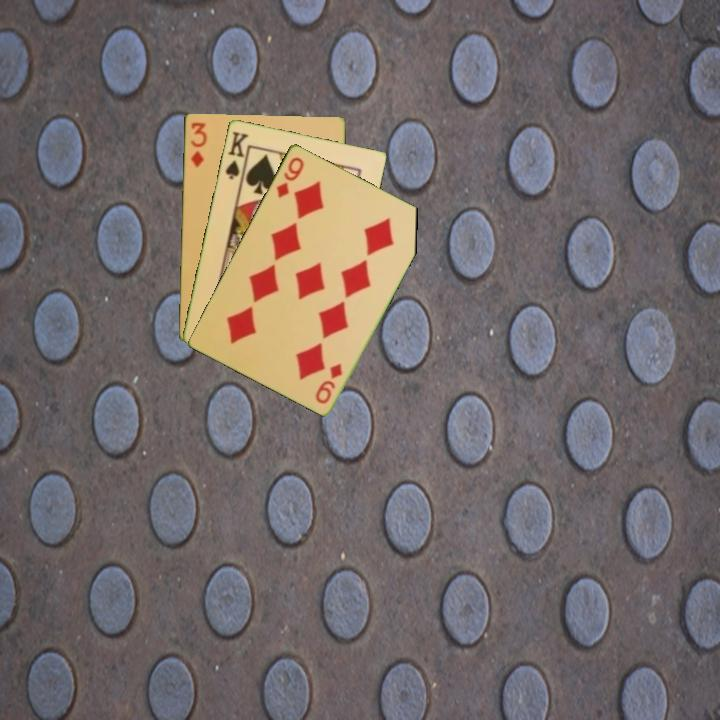3d: (187, 118, 209, 170)
9d: (272, 153, 307, 200), (312, 359, 345, 407)
Ks: (222, 127, 251, 182)
